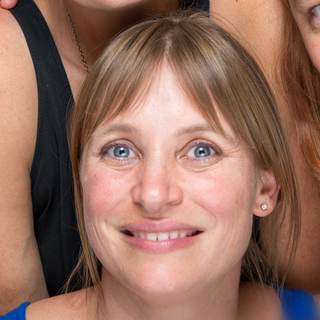eye: (178, 140, 226, 164), (97, 140, 143, 165)
